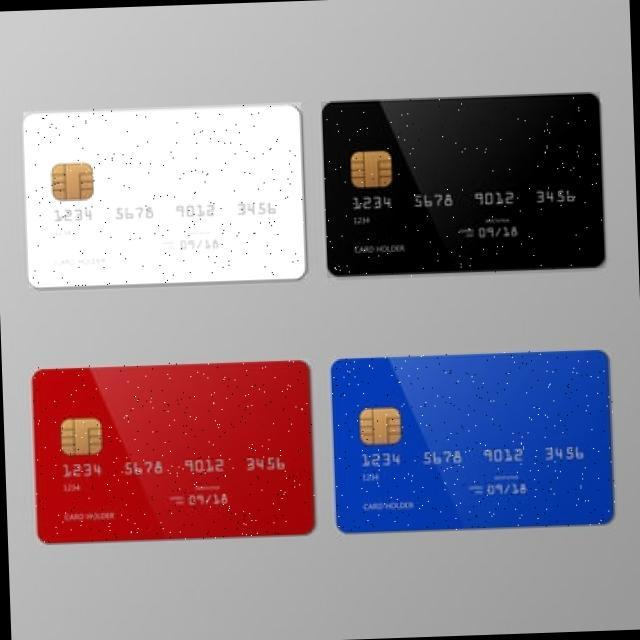payment_card: (330, 348, 615, 533), (31, 359, 314, 543), (19, 105, 306, 284), (325, 92, 605, 272)
